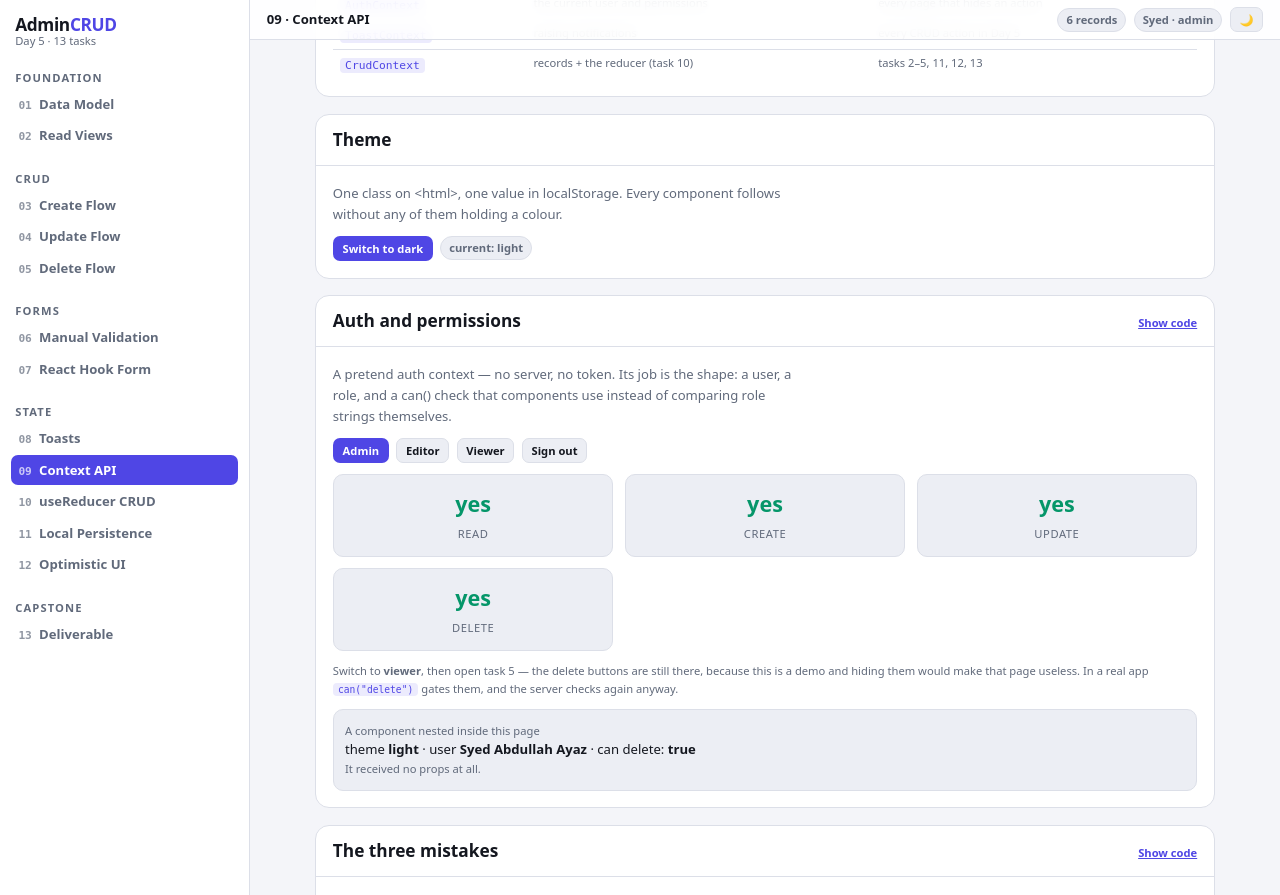
Test: task 9 — context › permissions change with the role
(page scrolled)
Step 1. Click the button "Viewer" → coordinates (485, 451), box [456,438,514,463]
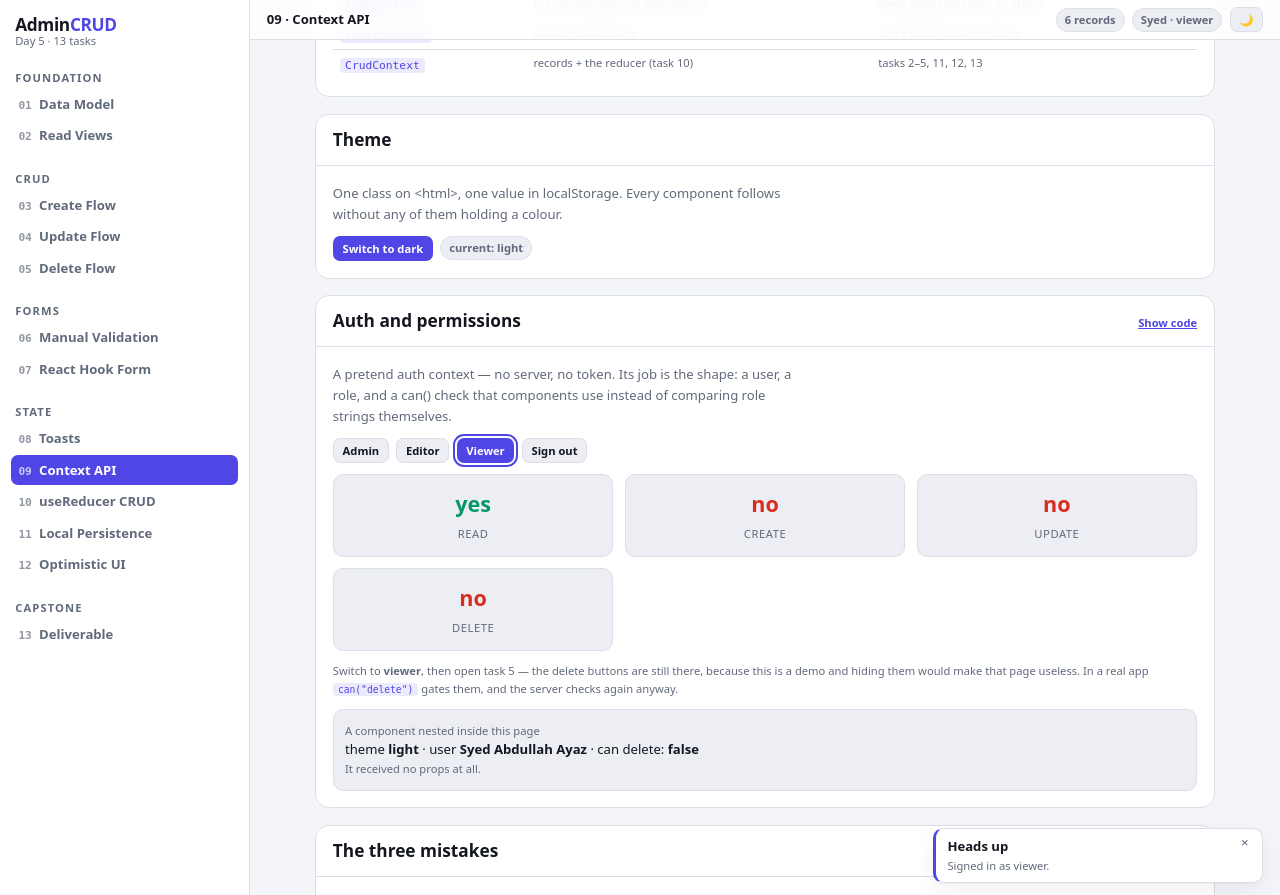
Result: the 3rd text "no" is shown at [459,583,487,612]
Step 2. Click the button "Admin" → coordinates (361, 451), box [333,438,389,463]
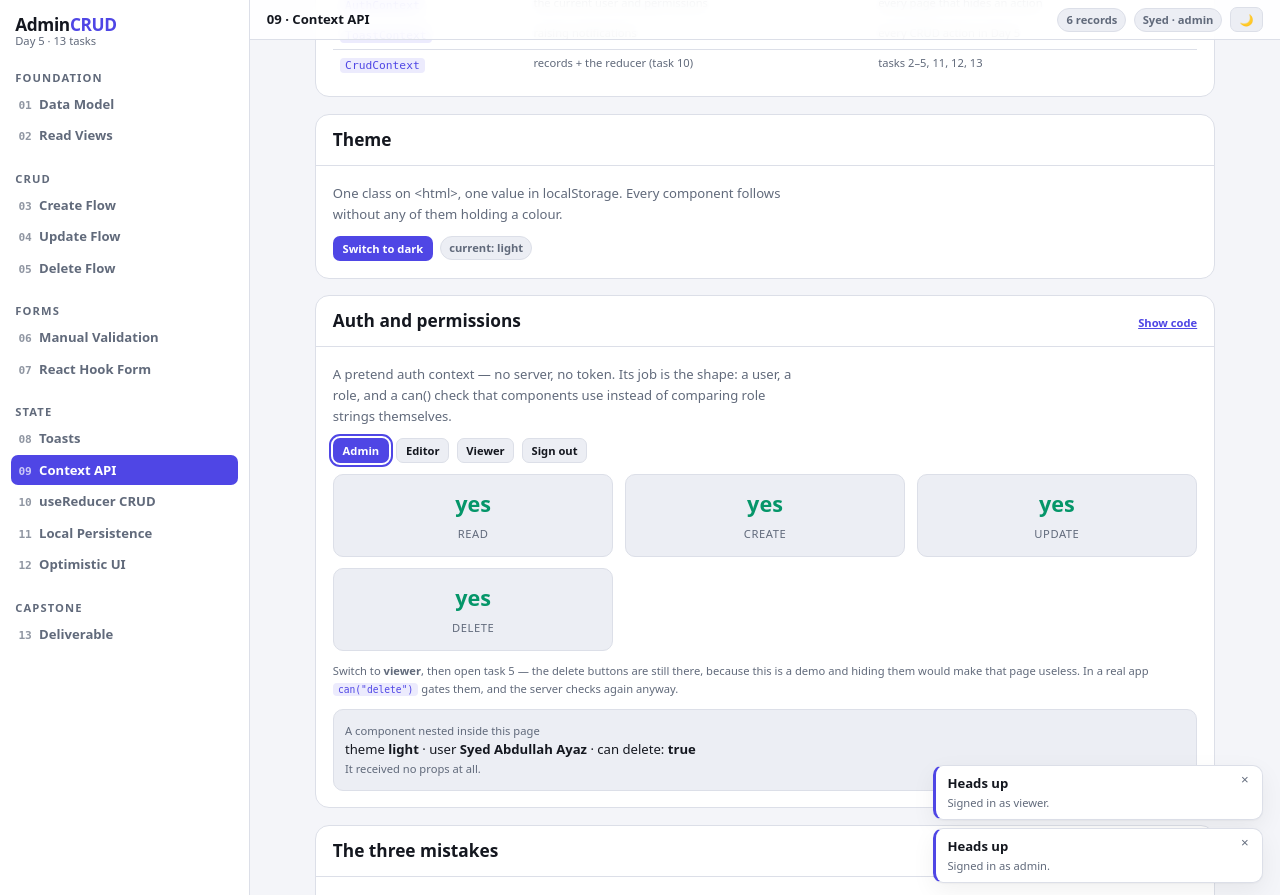
Result: the 4th text "yes" is shown at [455,583,491,612]
